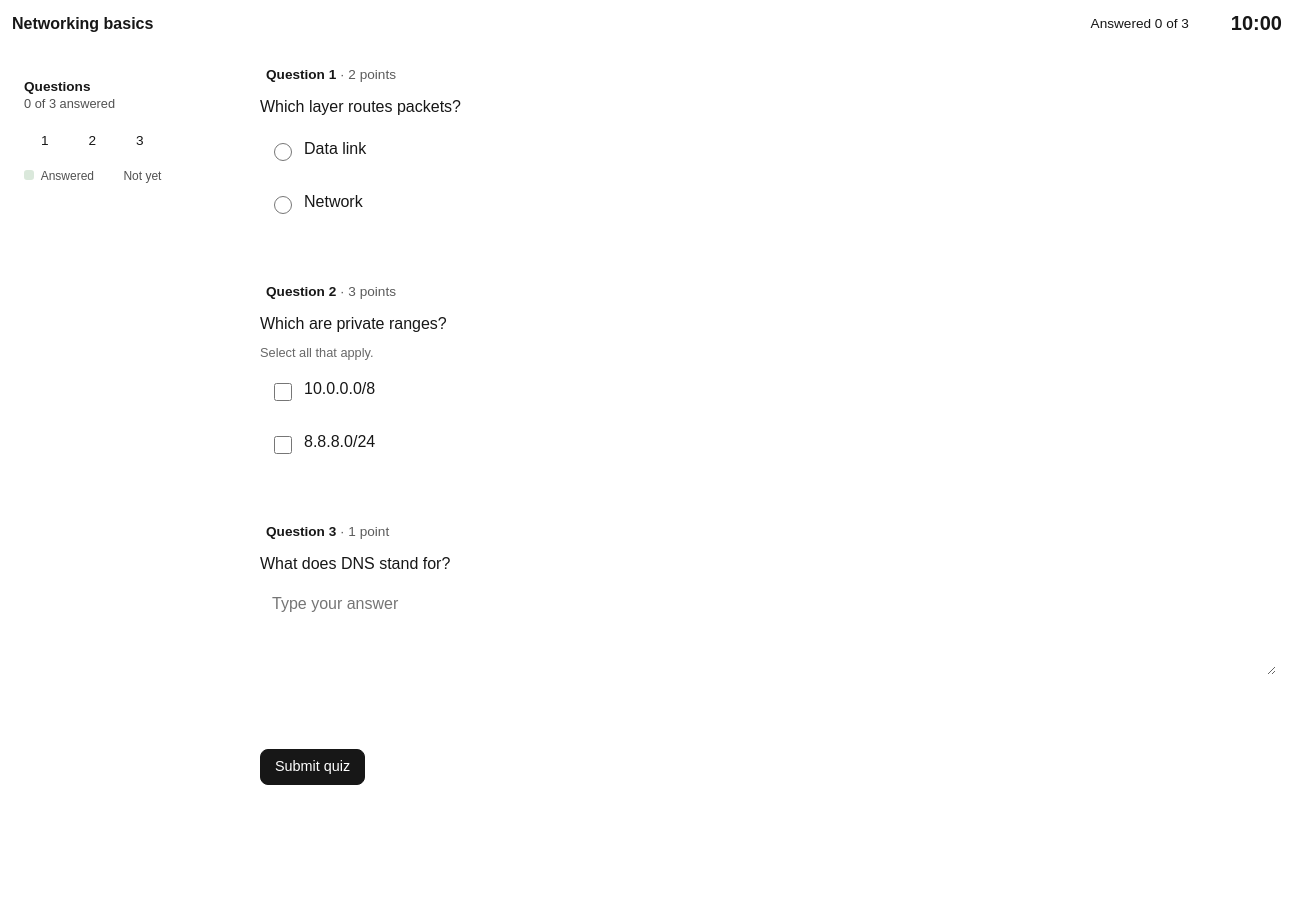
Test: question navigator › marks a question answered as soon as it is, and unanswered again when it is cleared
Click the radio button labelled "Network": {"x": 283, "y": 205} 274,196 -> 292,214
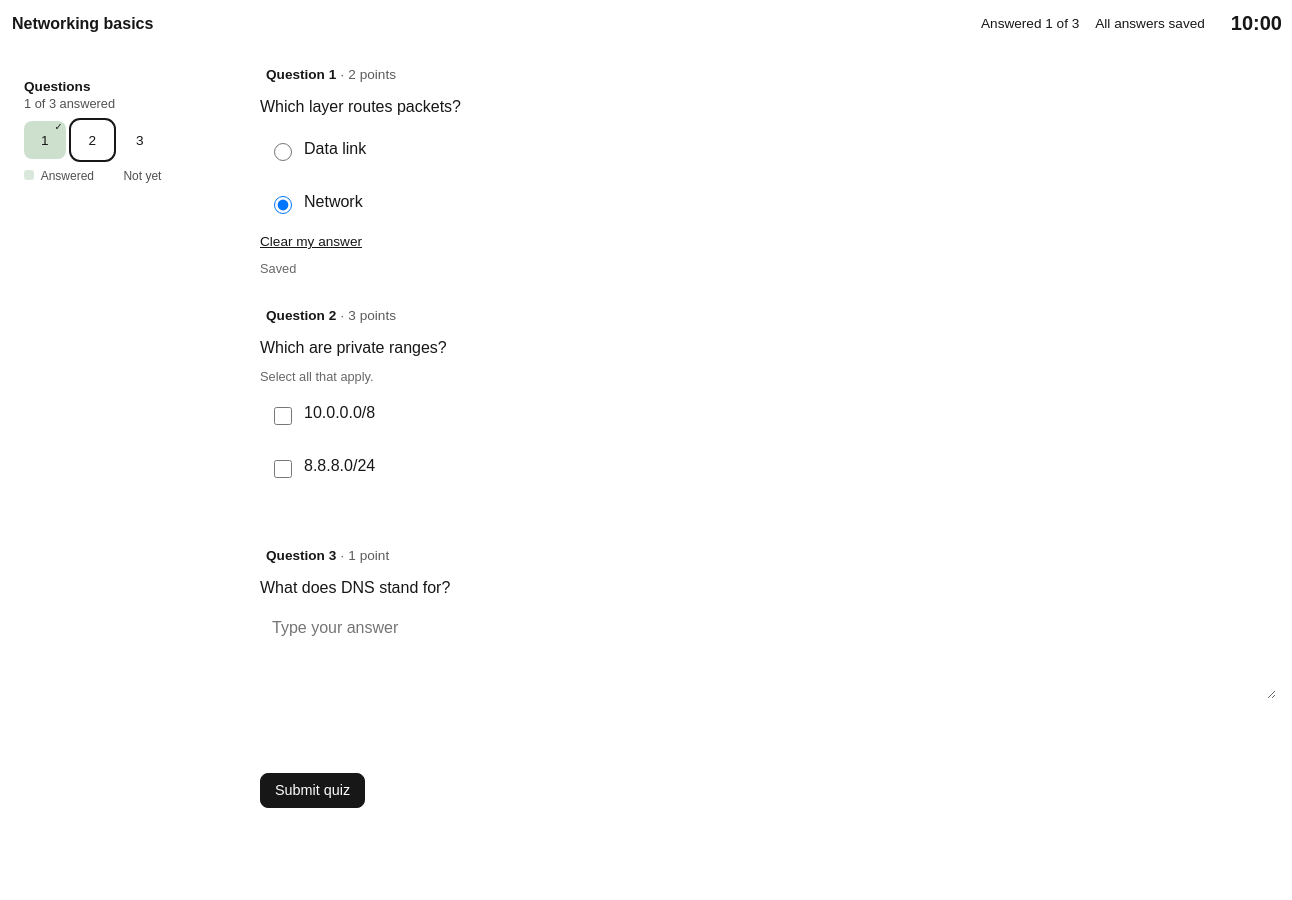
Expected: the text "1 of 3 answered" is shown, 24,96 -> 115,111
Click the button "Clear my answer": {"x": 311, "y": 242} 260,234 -> 362,249
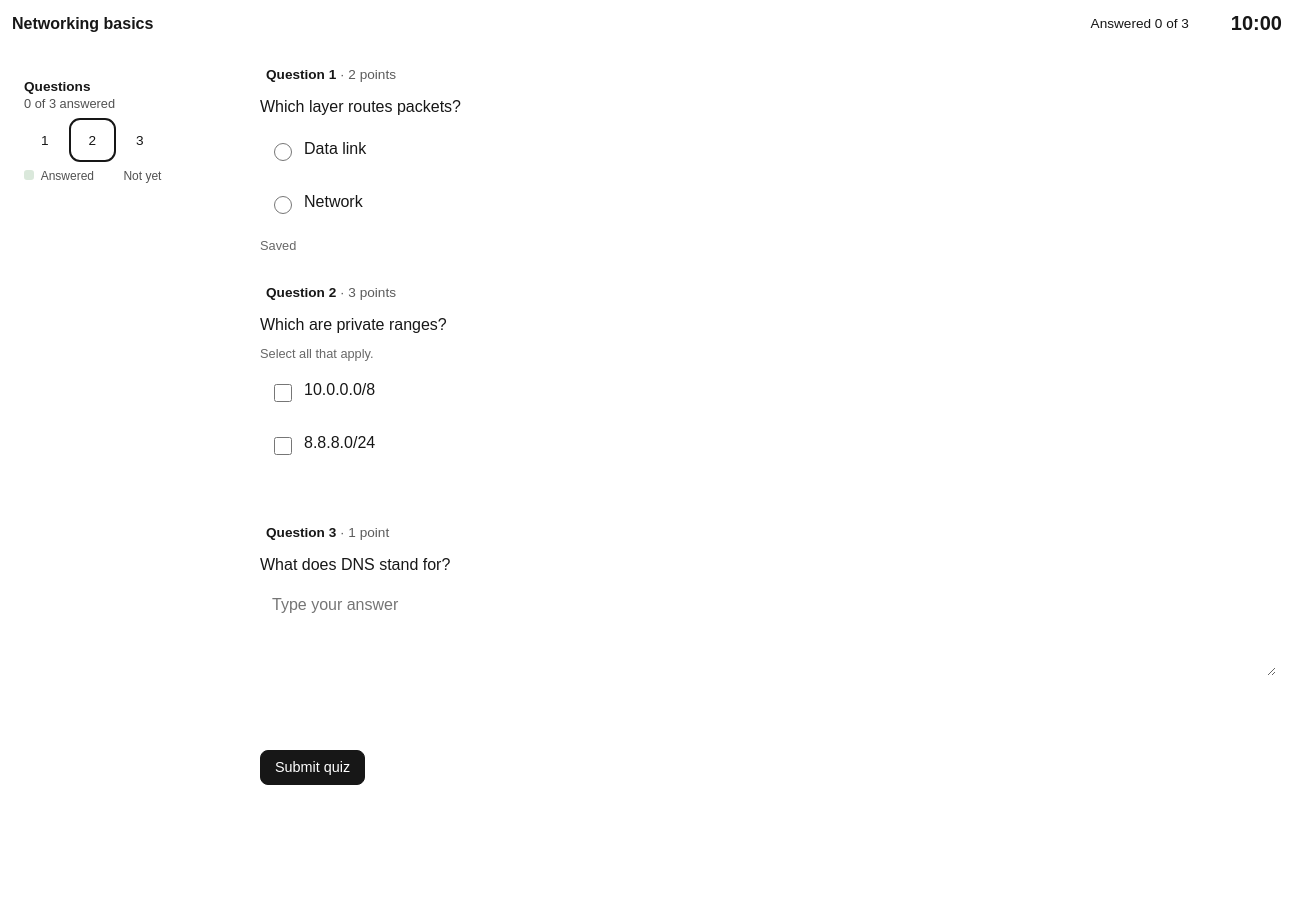
Expected: the text "0 of 3 answered" is shown, 24,96 -> 115,111
